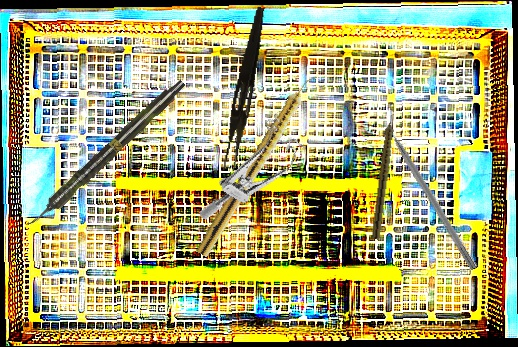Dressing Forceps: (222, 5, 267, 173)
Handpiece: (23, 75, 189, 233), (195, 69, 320, 261), (371, 112, 398, 241)
Pusher: (378, 113, 480, 271)
Speculum: (197, 106, 313, 245)
